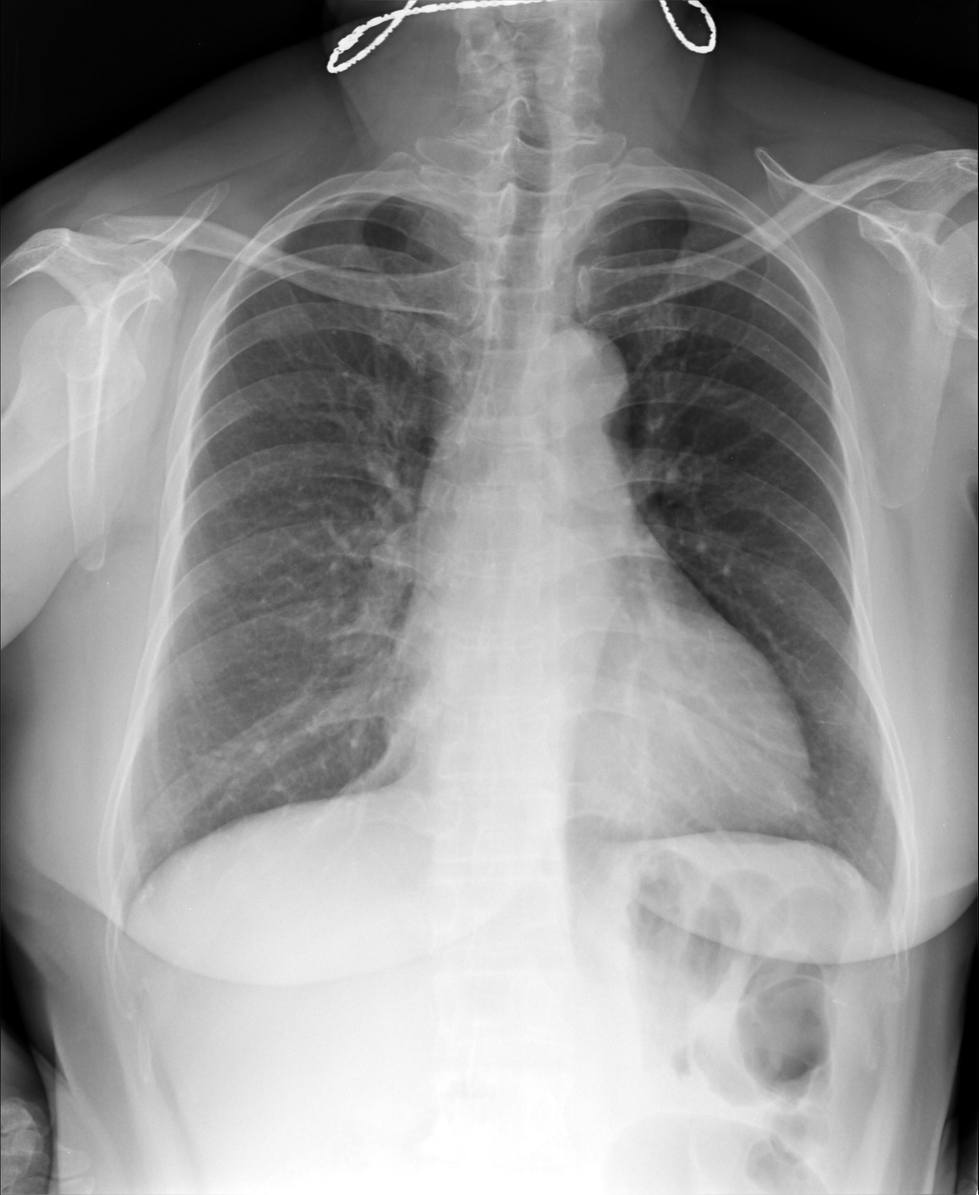Pulmonary fibrosis: (334, 700, 411, 794)
